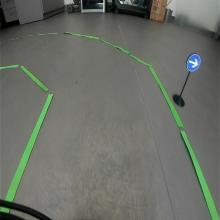right: (186, 53, 200, 72)
